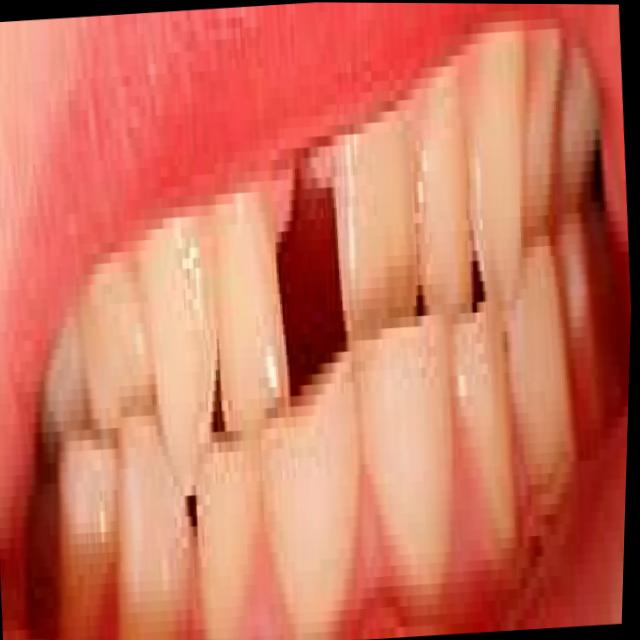hypodontia: (275, 145, 346, 365)
